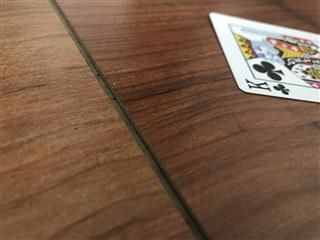KingOfClubs: (207, 11, 320, 104)
